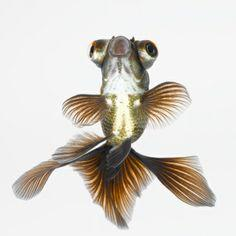goldfish: (64, 24, 190, 210)
